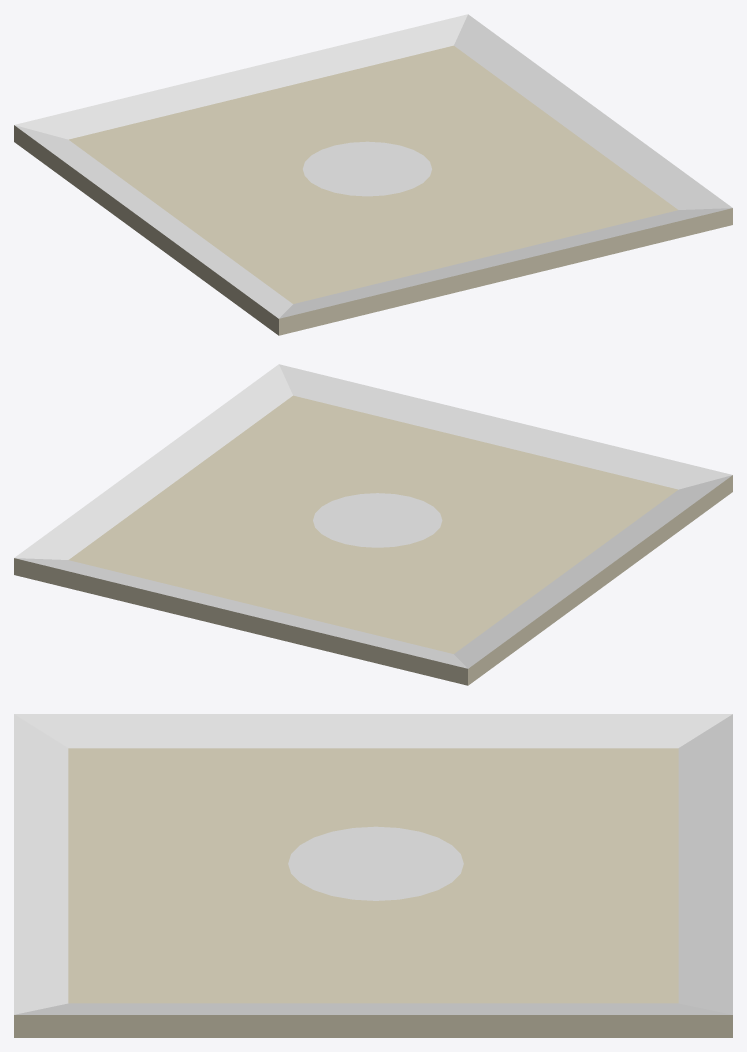
Rendered from Floor_3.fbx.
The picture shows the model from 3 angles, top to bottom: view 1: azimuth 30°, elevation 25°; view 2: azimuth 150°, elevation 25°; view 3: azimuth 270°, elevation 25°; orthographic projection. The views are drawn at different scales.
Visible parts, largest first — view 1: Floor_3_Floor_3; view 2: Floor_3_Floor_3; view 3: Floor_3_Floor_3.
Part boxes in pixels (bbox=[...]): Floor_3_Floor_3: bbox=[14, 14, 732, 335]; Floor_3_Floor_3: bbox=[14, 364, 732, 685]; Floor_3_Floor_3: bbox=[14, 714, 732, 1037].
Bounding box in the file's own units: 176 × 6.28 × 178.
